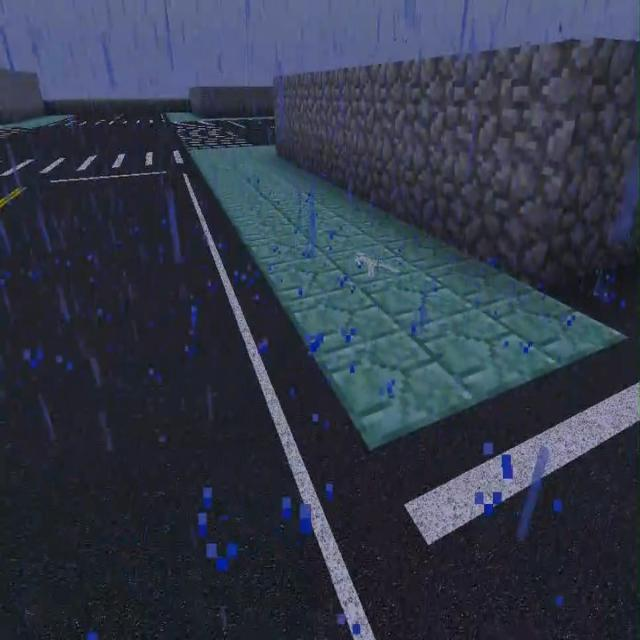8: (376, 339, 639, 639), (0, 151, 196, 180), (175, 121, 254, 148), (42, 117, 171, 128), (0, 128, 23, 140)
crosswalk: (1, 172, 483, 639), (0, 126, 182, 155), (217, 120, 275, 144)
road: (190, 146, 628, 454), (0, 116, 77, 129), (170, 111, 200, 121), (219, 116, 274, 120)
